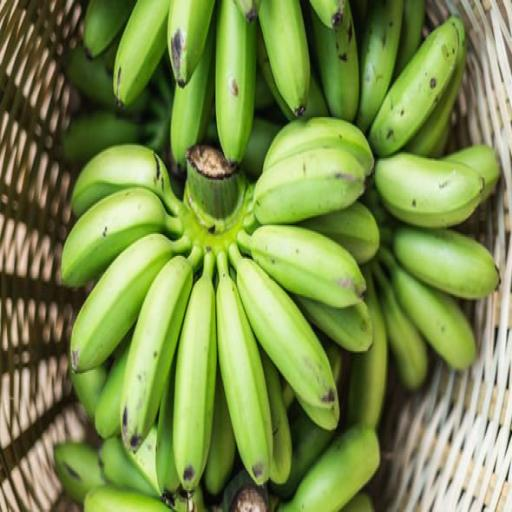banana-unripe: (46, 0, 512, 512)
